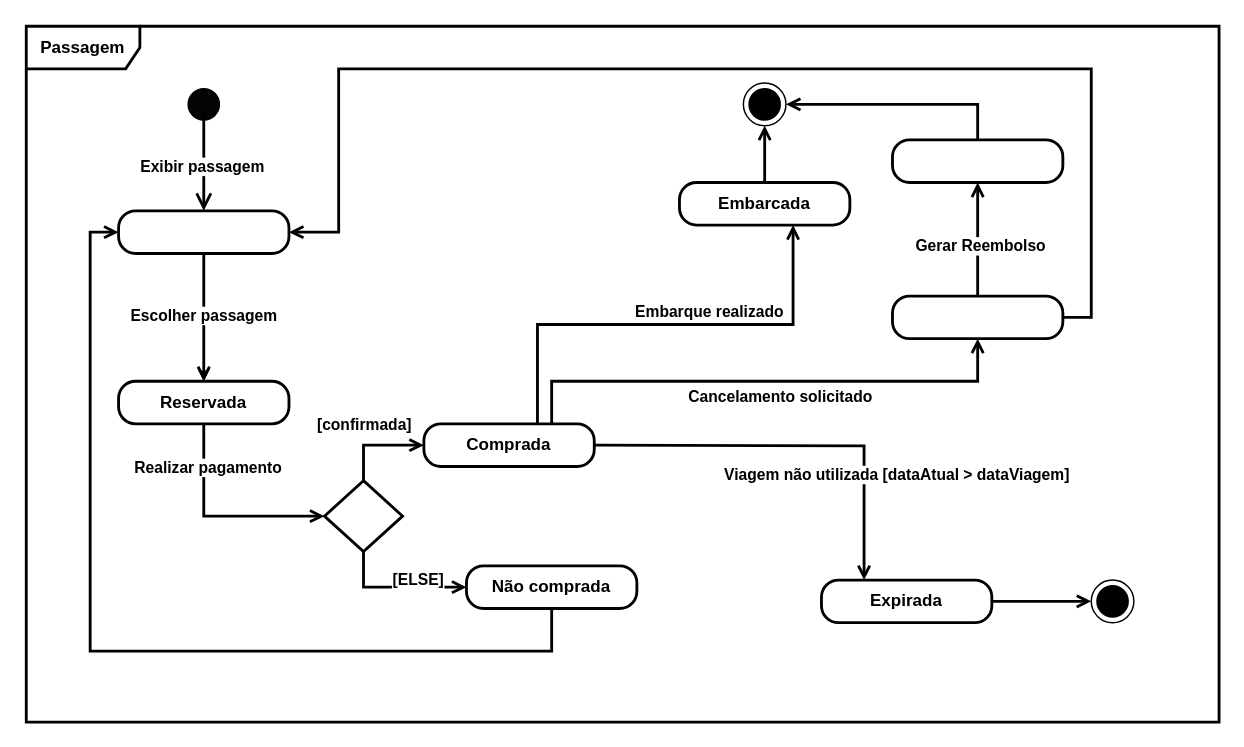
This 1244x747 diagram has some shape labels left out. Here are the shapes that lost their labels. From the top down, the centre of each, then its label:
At (977,160): "Reembolsada".
At (203,231): "Disponível".
At (977,316): "Cancelada".
